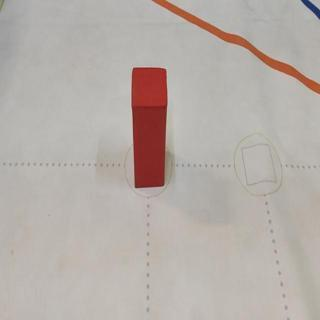redbox: (131, 67, 169, 190)
